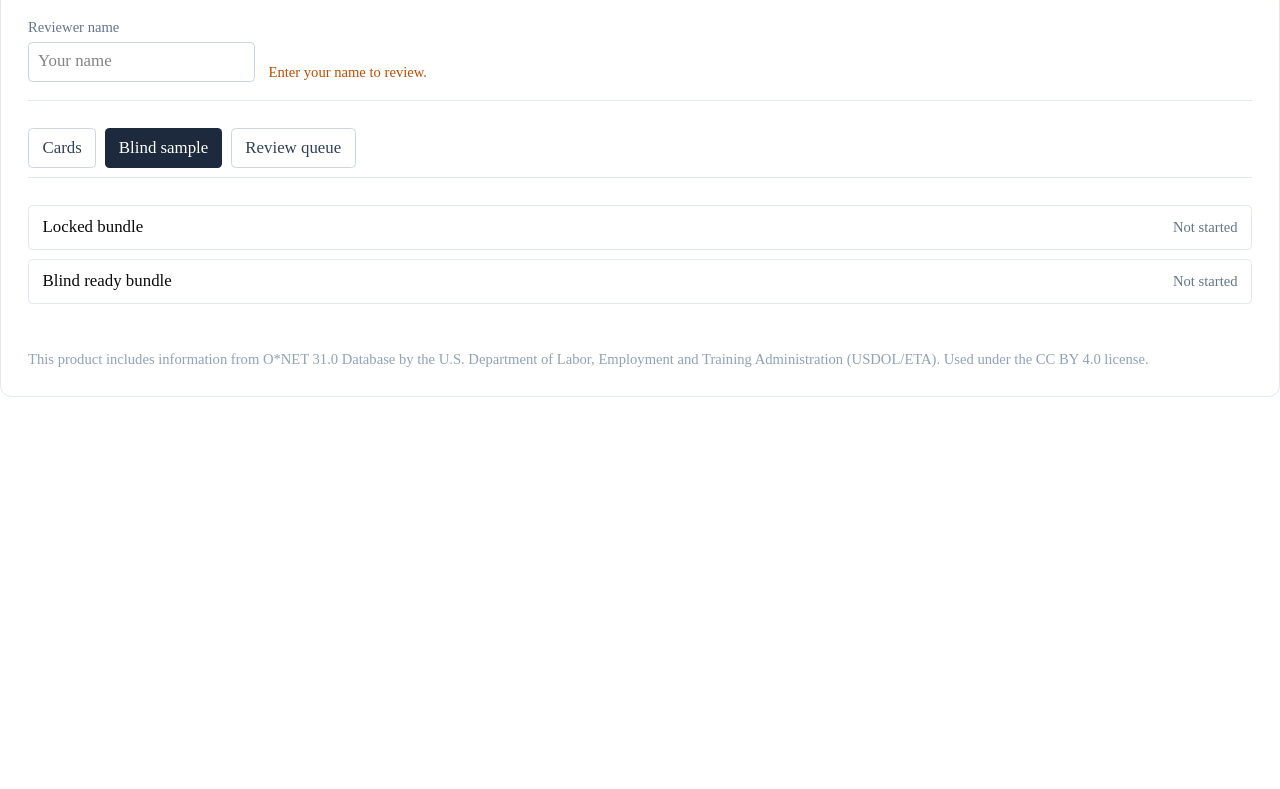
BundlesPanel › disables action buttons until a reviewer name is entered, and shows the attribution text
The image size is (1280, 789).
Expected: the text "This product includes information from O*NET 31.0 Database by the U.S. Department of Labor, Employment and Training Admi" is shown, [28,351,1148,367]
Click the button "Blind ready bundle".
click(107, 281)  # box [42,269,172,294]
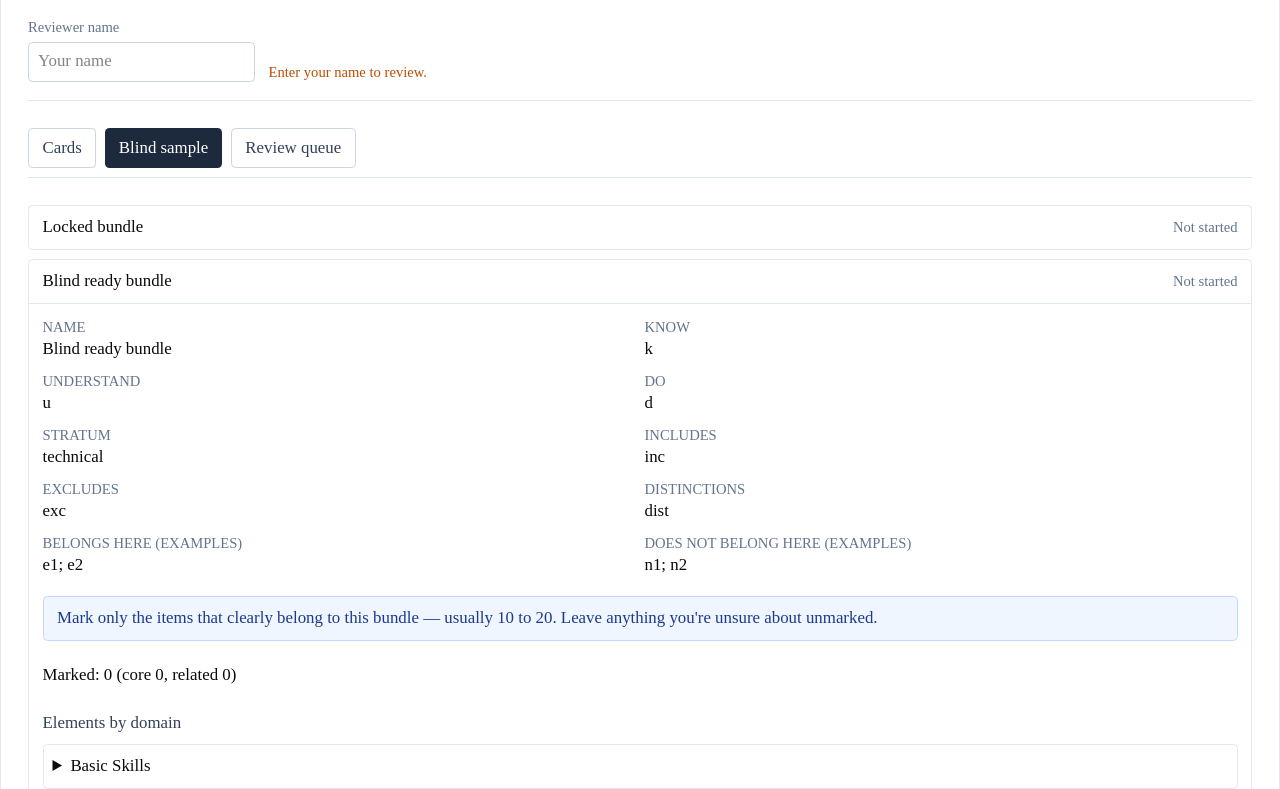
Expected: the text "Enter your name to review." is shown, [268,62,427,82]
Type "Chip" into the field labelled "Reviewer name".
click(142, 62); type("Chip")  # box [28,42,255,82]
(page scrolled)
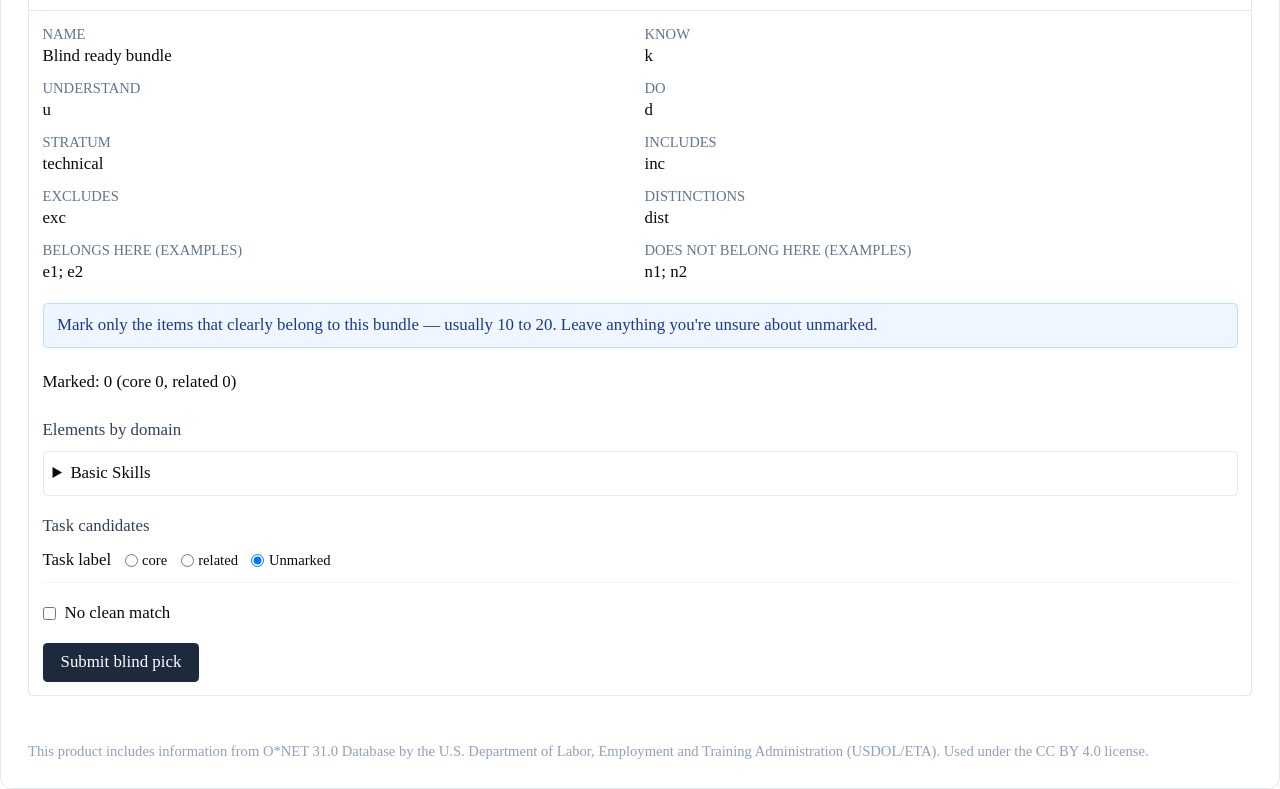
Now the text "Enter your name to review" is gone
Now the button "Submit blind pick" is enabled, box [42,643,199,682]
